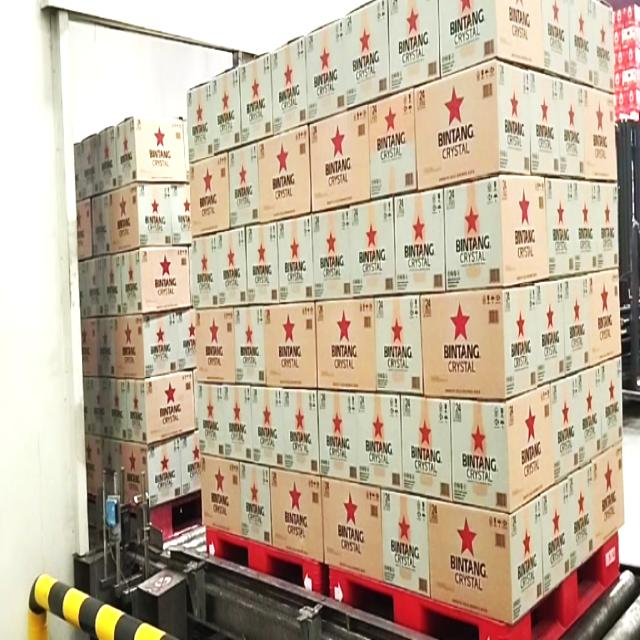pallet: (323, 0, 634, 640), (184, 18, 326, 640), (56, 89, 214, 567)
